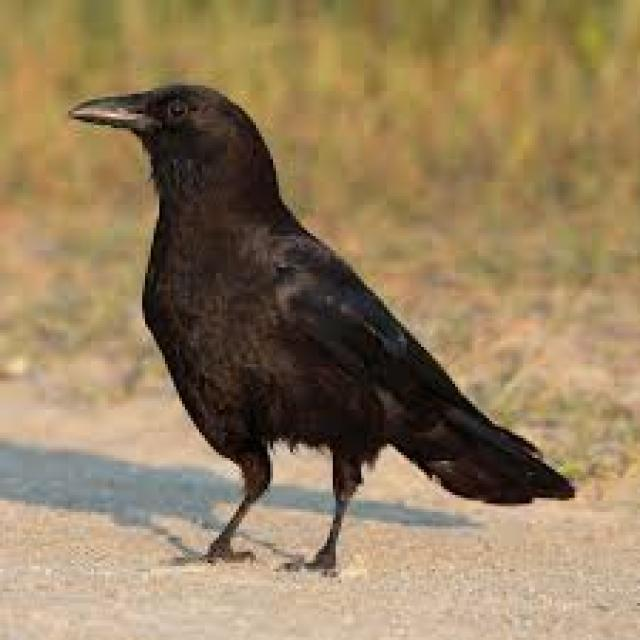crow: (82, 86, 338, 394)
